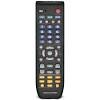remote control: (33, 3, 66, 100)
